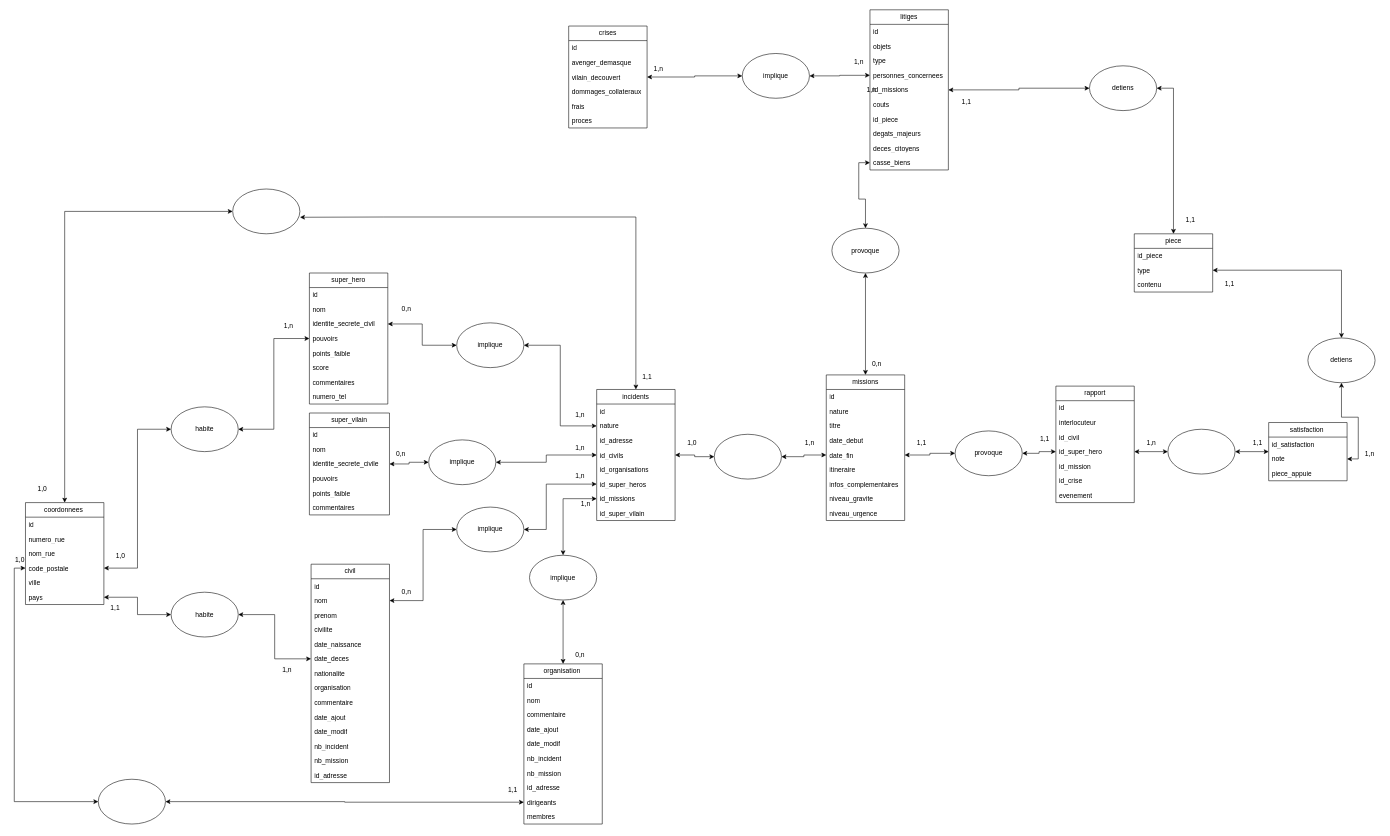
The diagram is 1390 pixels wide and 836 high, and some of its shapes have lost their labels. Here are the shapes that lost their labels. From the top down, the centre of each, then its label:
the point at 266,211: possede
the point at 747,456: declenche
the point at 1201,451: incite
the point at 131,801: siege
